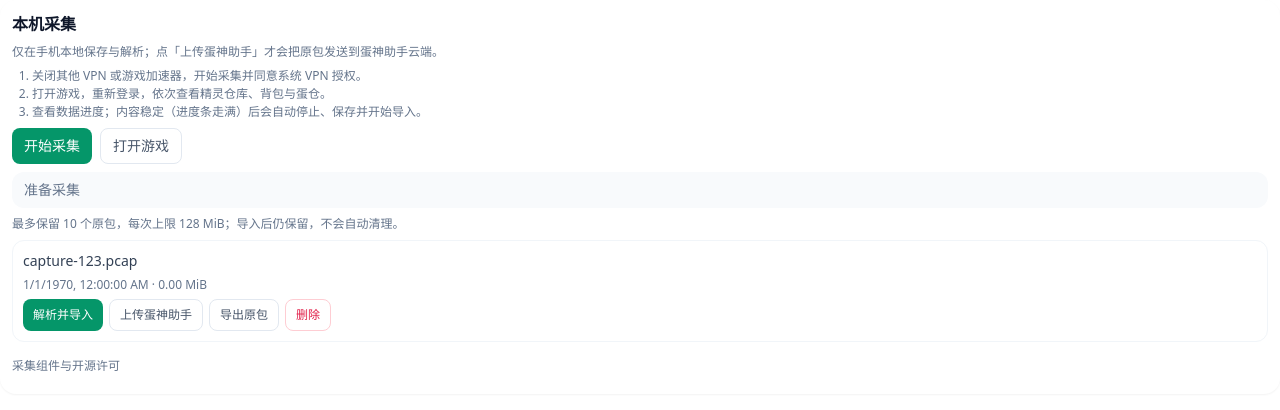
Test: 内置采集入口 › 上传蛋神助手显示云端 UID，成功后按钮置为已上传
Click the button "上传蛋神助手" at point(156, 315), box [109,299,203,331]
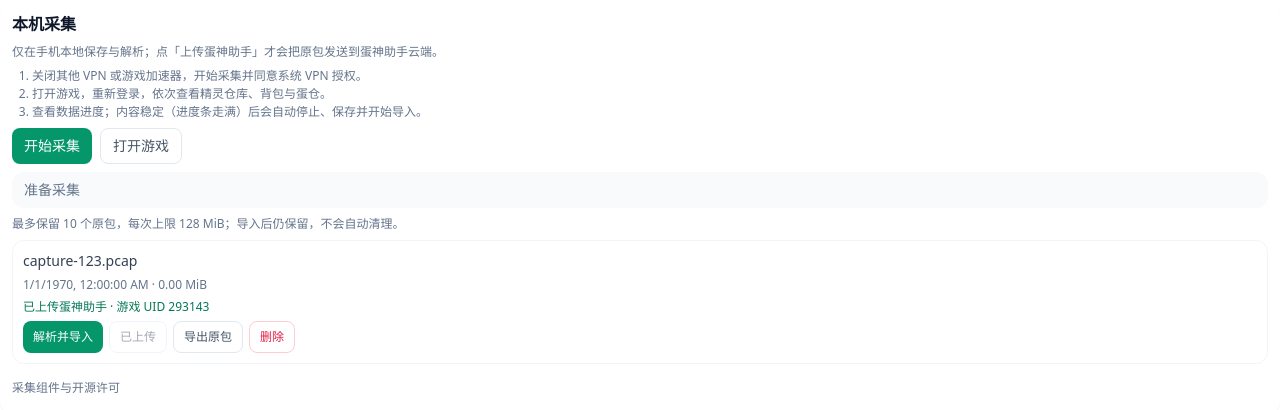
Expected: the text "已上传蛋神助手 · 游戏 UID 293143" is shown, [23,298,210,315]
Expected: the button "已上传" is disabled, [109,321,167,353]
